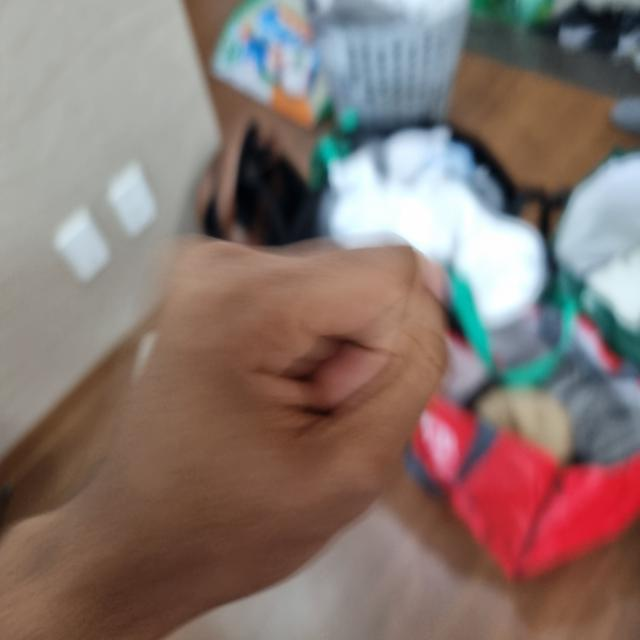Rock: (3, 239, 438, 625)
